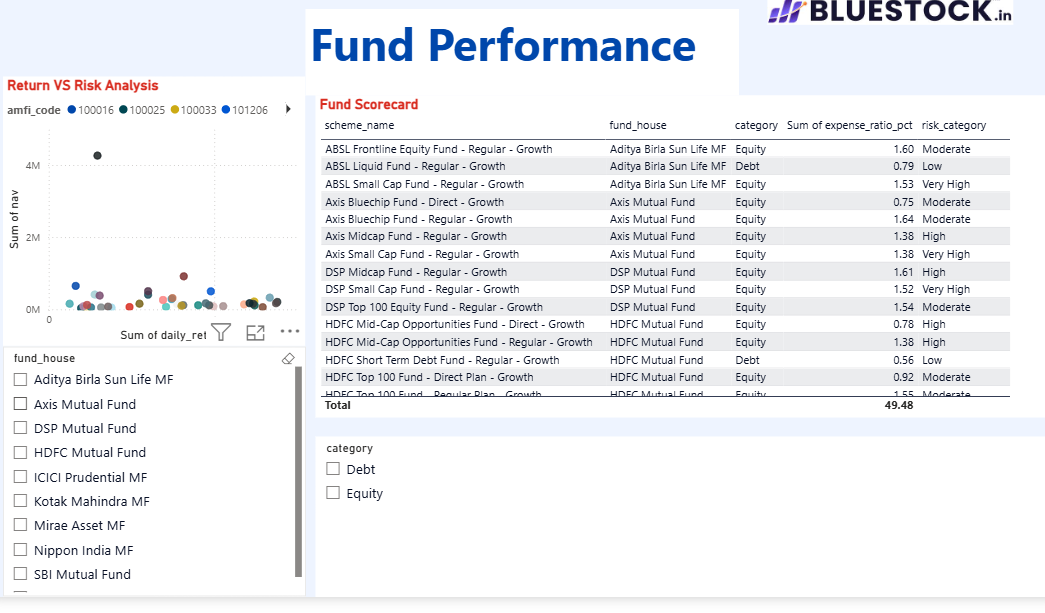

What the dashboard file says about the page in this screenshot:
{"tool":"powerbi","page":{"name":"Fund Performance","canvas":[1280,720],"ordinal":1},"visuals":[{"type":"scatterChart","title":"Return VS Risk Analysis","fields":{"X":["Sum(clean_nav_history (2).daily_return)"],"Y":["Sum(clean_nav_history (2).nav)"],"Series":["clean_nav_history (2).amfi_code"]},"box":[0,70.1,360.5,321.9],"z":0},{"type":"tableEx","title":"Fund Scorecard","fields":{"Values":["clean_01_fund_master.scheme_name","clean_01_fund_master.fund_house","clean_01_fund_master.category","Sum(clean_01_fund_master.expense_ratio_pct)","clean_01_fund_master.risk_category"]},"box":[390.5,88.7,889.8,384.8],"z":1000},{"type":"slicer","fields":{"Values":["clean_01_fund_master.fund_house"]},"box":[14.3,406.3,361.9,299],"z":2000},{"type":"image","title":"Fund Performance","box":[435,0,406.2,37],"z":2001},{"type":"slicer","fields":{"Values":["clean_01_fund_master.category"]},"box":[409.1,497.8,871.2,191.7],"z":2002},{"type":"textbox","box":[533.6,37.2,311.8,51.5],"z":2003}]}

Visuals, with their boxes on the page's 1280x720 design canvas (x1, y1, x2, y2). These are canvas units, not pixel positions in the 1045x613 screenshot, which may show the page scaled, cropped or inside an application window:
"Return VS Risk Analysis" scatterChart: [0, 70, 360, 392]
"Fund Scorecard" tableEx: [390, 89, 1280, 474]
slicer - clean_01_fund_master.fund_house: [14, 406, 376, 705]
"Fund Performance" image: [435, 0, 841, 37]
slicer - clean_01_fund_master.category: [409, 498, 1280, 690]
textbox: [534, 37, 845, 89]
